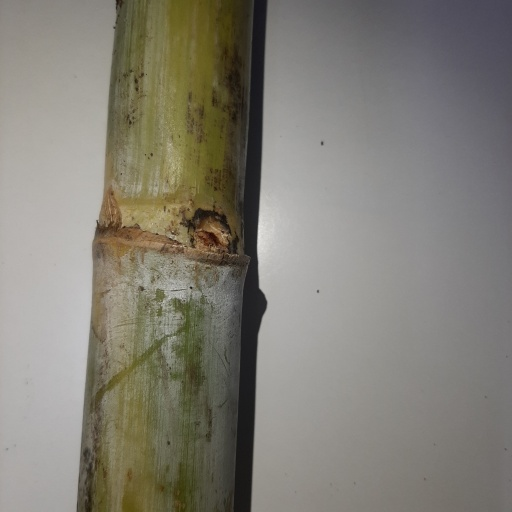Damage_Bud: (194, 216, 232, 255)
